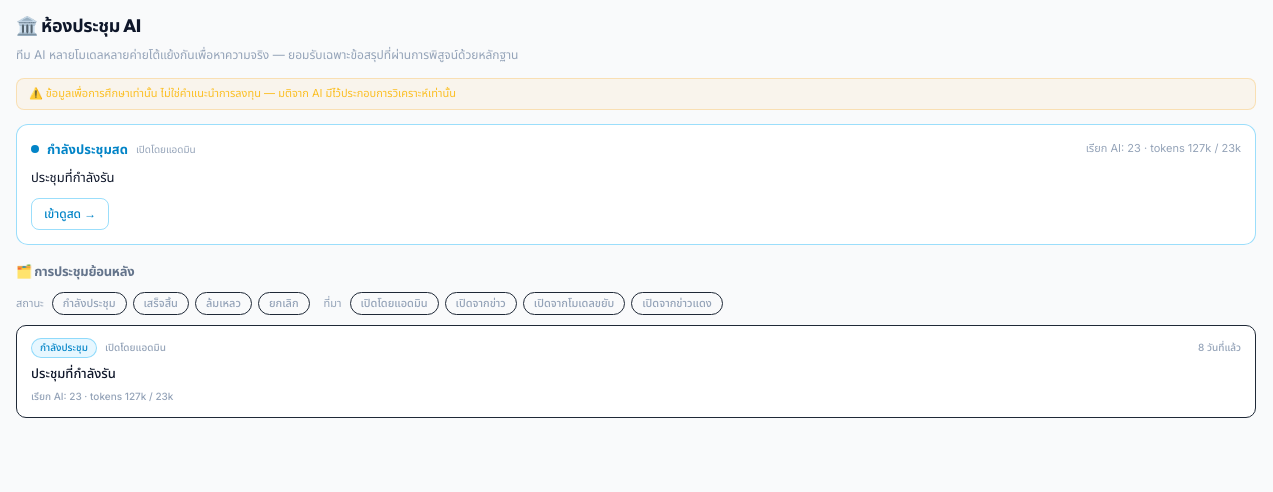
Test: BoardroomDashboard — ตัวกรองคลังประชุม (9.4) › กรองแล้วแผงประชุมสดต้องไม่หาย (ยังล็อกปุ่มเปิดประชุมอยู่)
The image size is (1273, 492).
Expected: the text "ประชุมที่กำลังรัน" is shown 2 times, [31,169,114,185]; [31,365,116,381]
Click the button "ล้มเหลว": point(223, 304) [195,292,252,315]
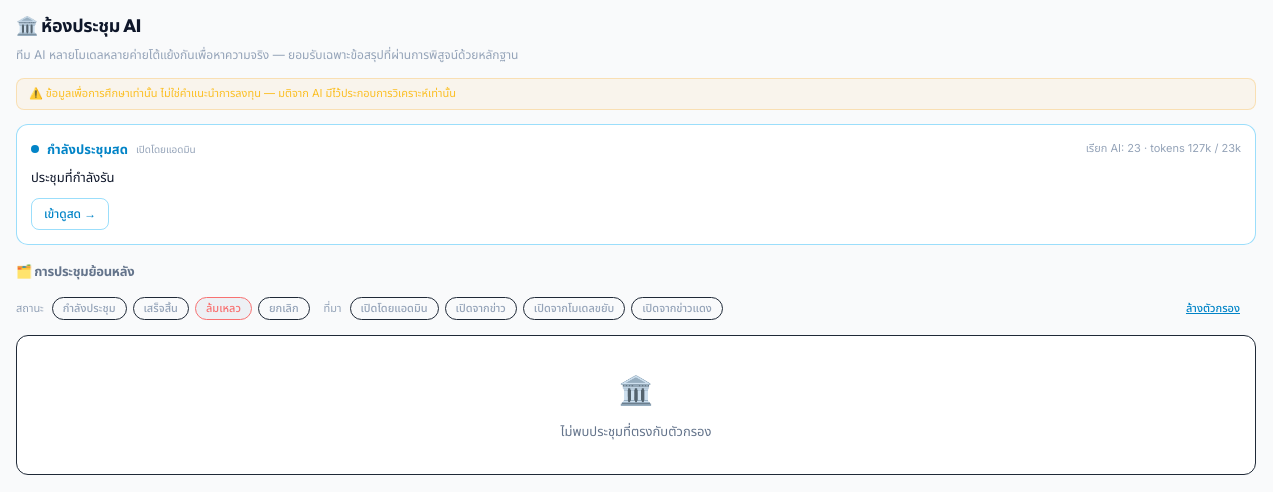
Expected: the text "ประชุมที่กำลังรัน" is shown, [31,169,114,185]
Expected: the text "ไม่พบประชุมที่ตรงกับตัวกรอง" is shown, [560,423,712,439]
